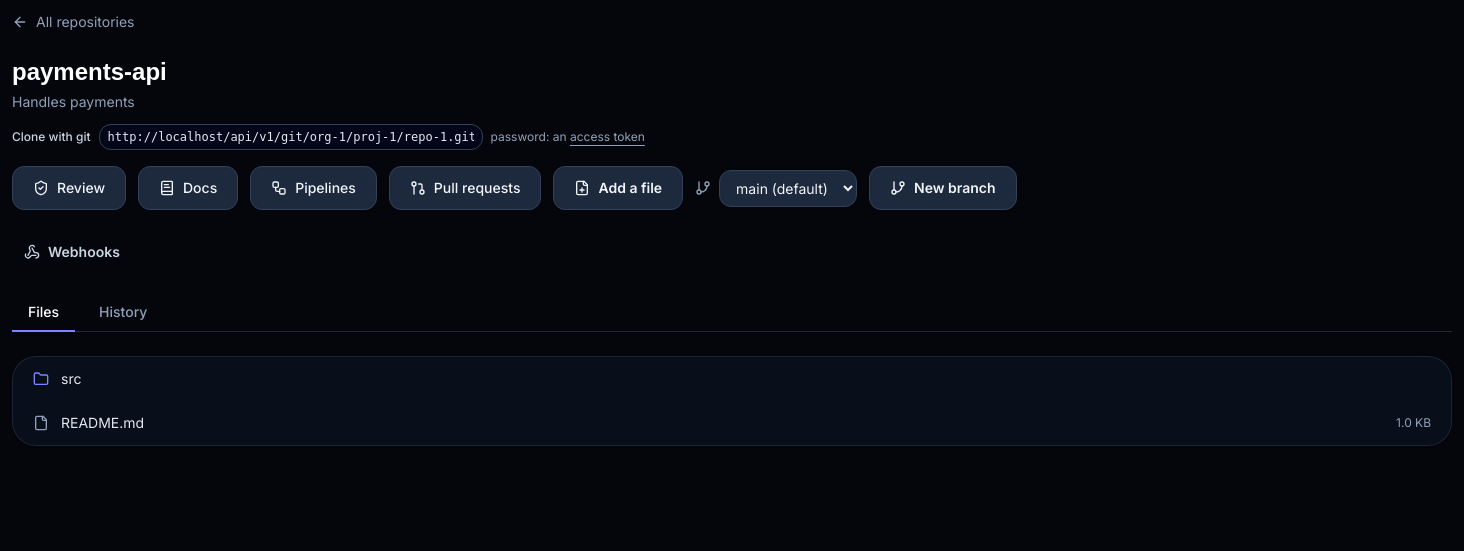
Test: RepositoryBrowserPage › opens a file and shows its contents
Click the button "README.md 1.0 KB".
click(103, 422)  # box [13,401,1451,445]
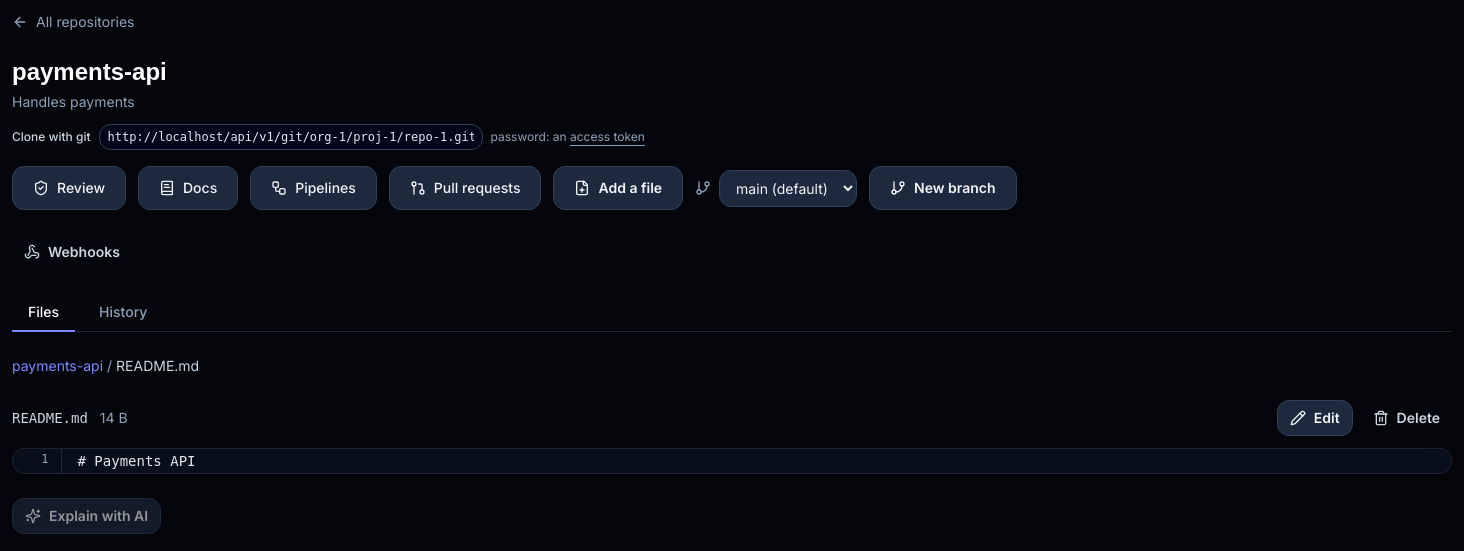
Expected: the text "# Payments API" is shown, [61,449,1451,473]
